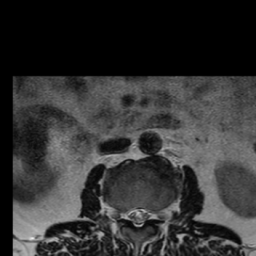CCS_normal: (134, 203, 141, 233)
LFS_normal: (149, 204, 156, 226)
LLS_normal: (142, 204, 149, 225)
RFS_normal: (118, 202, 126, 225)
RLS_normal: (126, 204, 135, 225)
